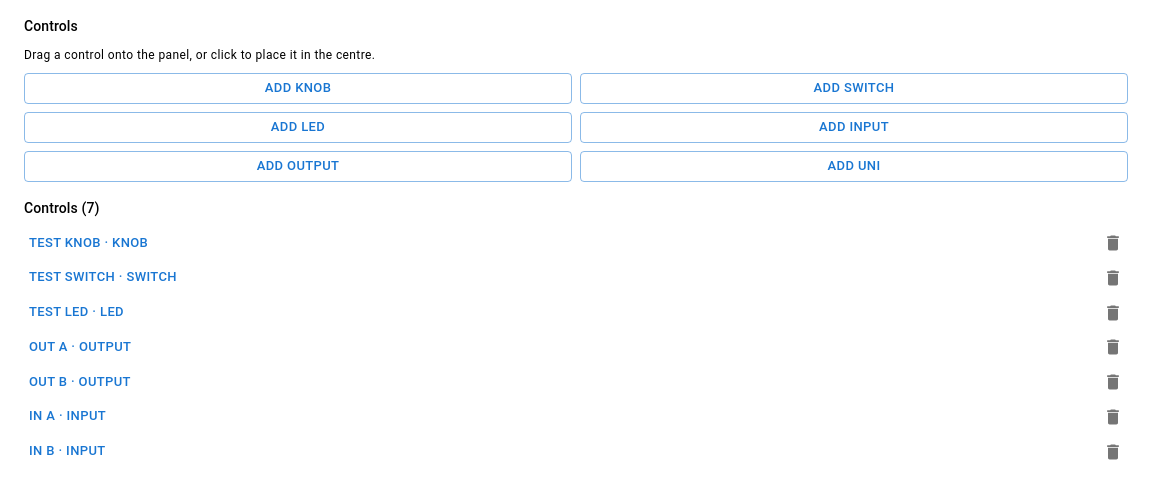
SynthLayoutEditor › renames the focused control and removes it again
(page scrolled)
Click the button "Test knob · Knob": point(65, 242) [24, 228, 1090, 258]
(page scrolled)
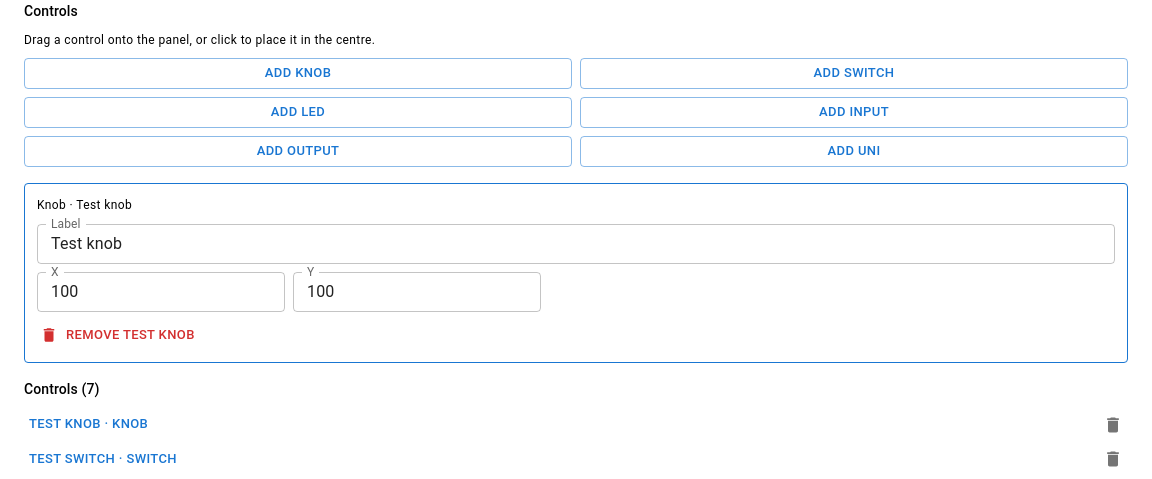
Replace the text in the field labelled "Label" with "Cutoff": point(576, 244) [37, 224, 1115, 264]
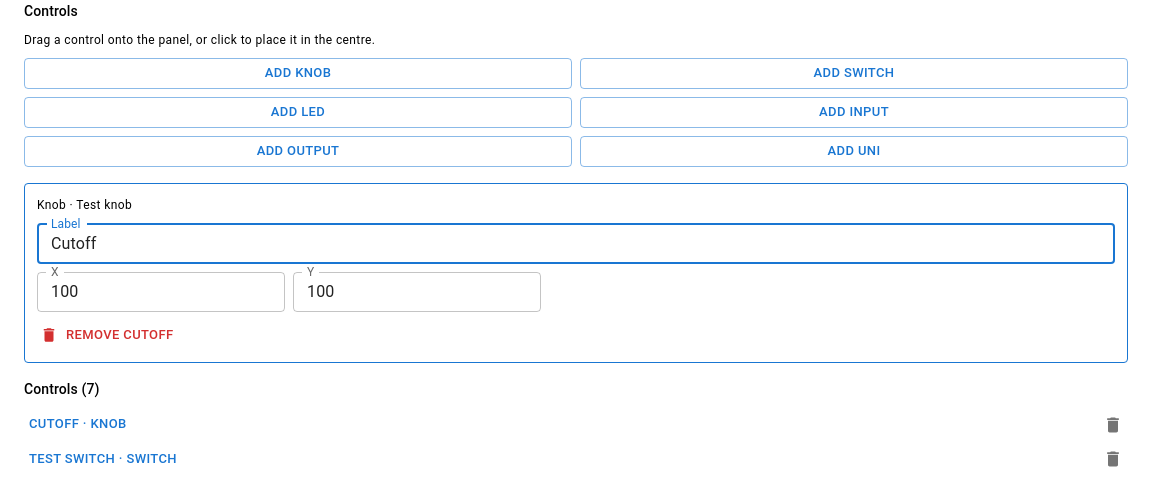
Expected: the button "Cutoff · Knob" is shown, [24, 409, 1090, 440]
Click the button "Remove Cutoff": point(108, 335) [37, 320, 178, 350]
(page scrolled)
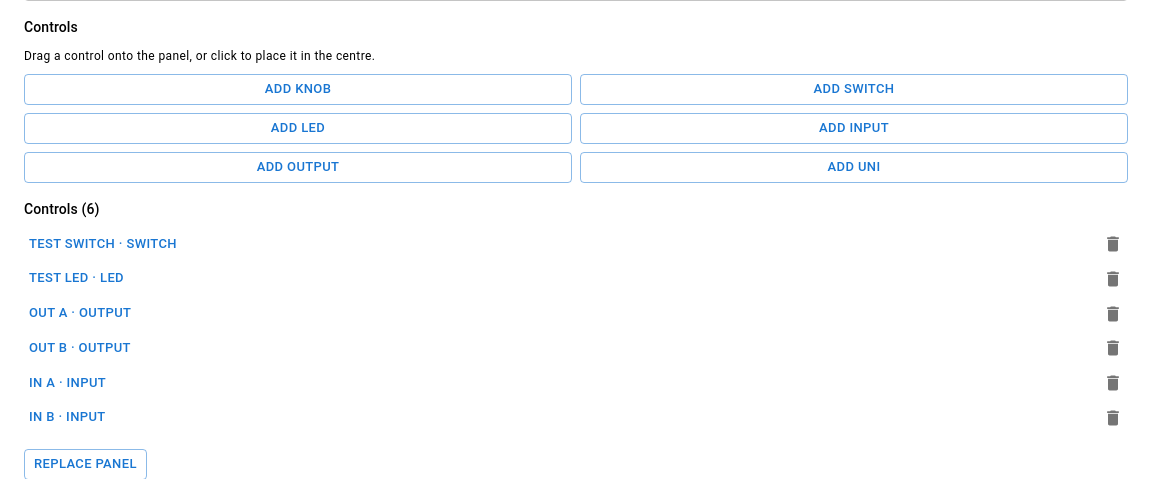
Expected: the button "Cutoff · Knob" is gone
